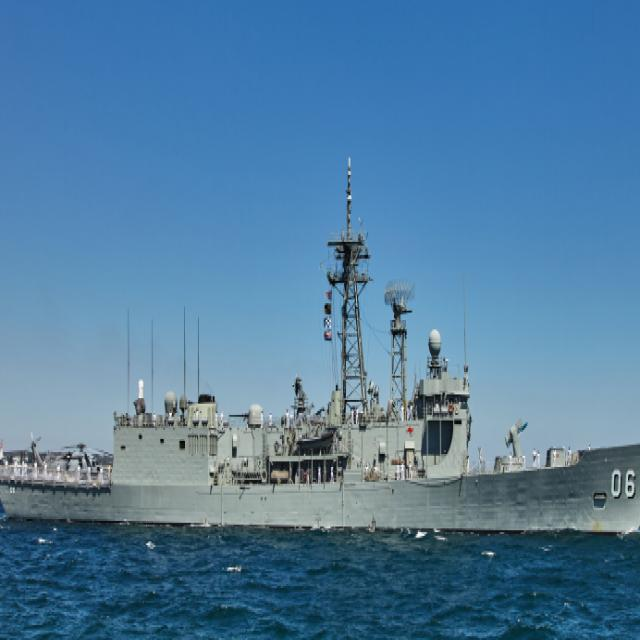Fragata: (1, 141, 640, 541)
